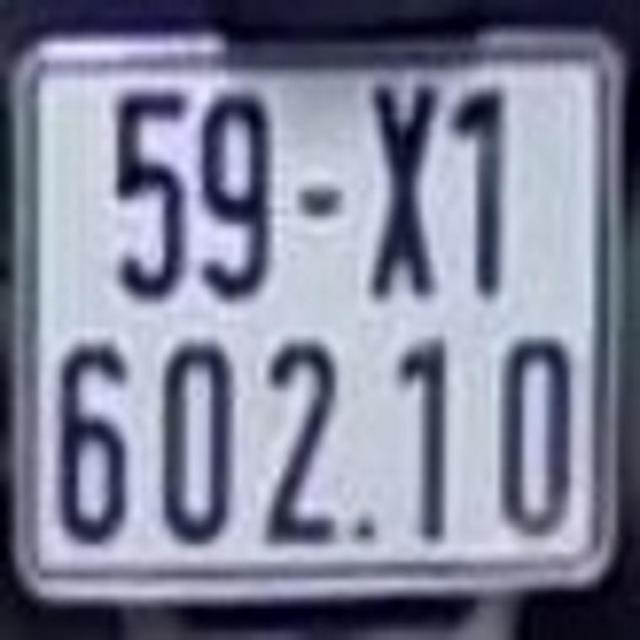0: (488, 310, 583, 548), (152, 327, 244, 547)
1: (381, 318, 472, 548), (442, 75, 529, 308)
2: (256, 322, 346, 552)
5: (100, 71, 195, 302)
6: (46, 326, 134, 548)
9: (188, 66, 280, 309)
X: (353, 64, 446, 301)
